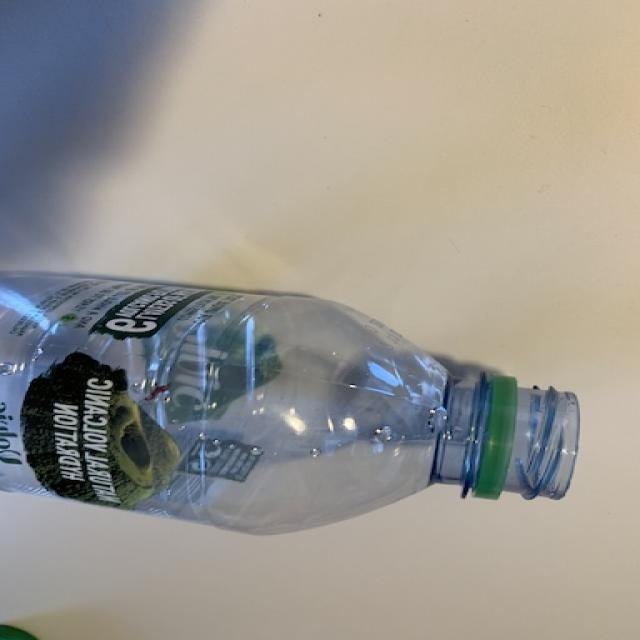plastic_bottle: (0, 272, 582, 535)
